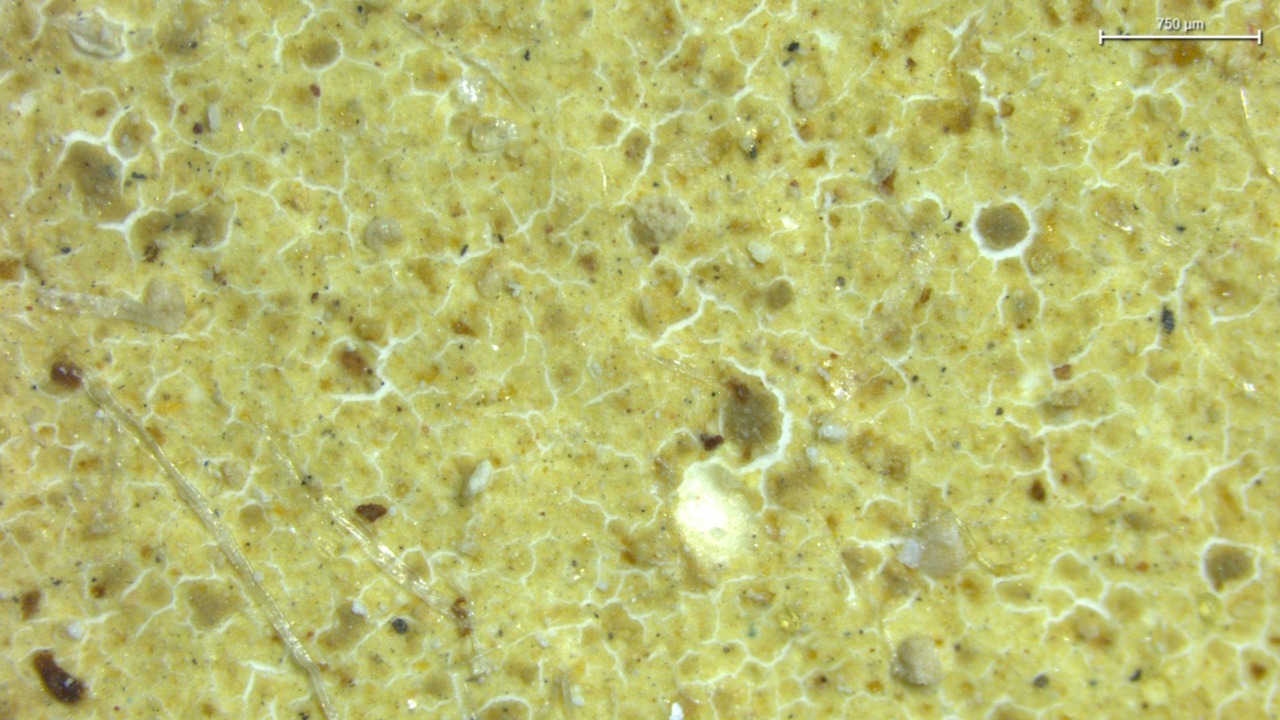microplastic_fragment: (893, 635, 942, 685), (471, 117, 517, 152)
